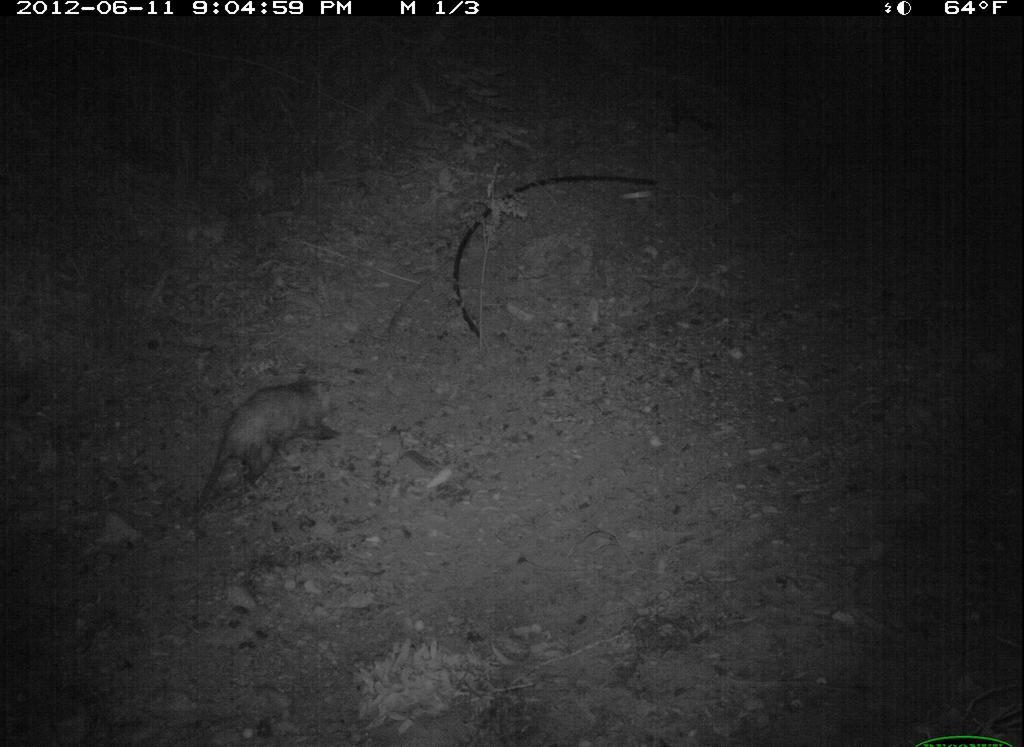opossum: (197, 369, 351, 505)
